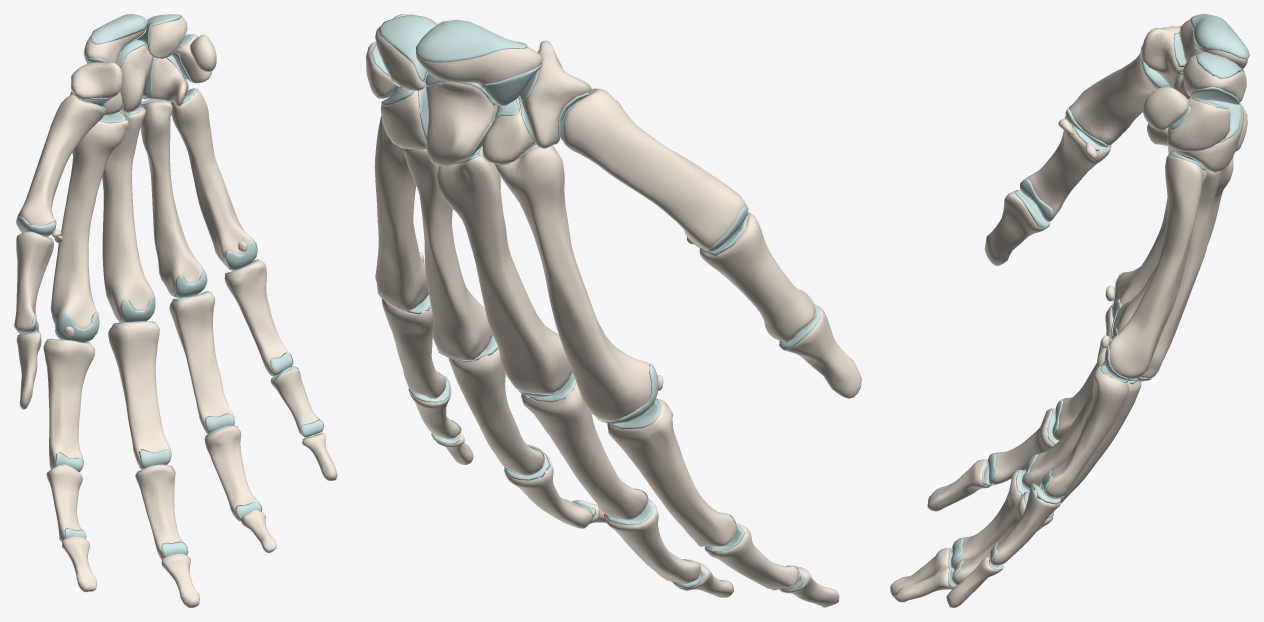
File: hand-and-wrist-bones-and-cartilages.glb
3 views of the same model, side by side, from view 1: azimuth 30°, elevation 25°; view 2: azimuth 150°, elevation 25°; view 3: azimuth 270°, elevation 25° (orthographic). The views are drawn at different scales.
Parts seen in each view (by area): view 1: 2nd metacarpal bone.r, 3rd metacarpal bone.r, 4th metacarpal bone.r, 5th metacarpal bone.r, Proximal phalanx of 3rd finger.r, Proximal phalanx of 2d finger.r, 1st metacarpal bone.r, Proximal phalanx of 4th finger.r, Art carts of metacarpal bones, Proximal phalanx of 5th finger.r, Proximal phalanx of 1st finger.r, Middle phalanx of 3rd finger.r (+19 smaller); view 2: 2nd metacarpal bone.r, 3rd metacarpal bone.r, 1st metacarpal bone.r, 4th metacarpal bone.r, 5th metacarpal bone.r, Proximal phalanx of 2d finger.r, Proximal phalanx of 3rd finger.r, Proximal phalanx of 1st finger.r, Proximal phalanx of 4th finger.r, Capitate.r, Art cart of scaphoid bone, Trapezium.r (+19 smaller); view 3: 5th metacarpal bone.r, 1st metacarpal bone.r, Proximal phalanx of 5th finger.r, 4th metacarpal bone.r, Proximal phalanx of 1st finger.r, Triquetrum.r, Distal phalanx of 1st finger.r, Proximal phalanx of 3rd finger.r, Middle phalanx of 5th finger.r, Art cart of scaphoid bone, Middle phalanx of 3rd finger.r, Trapezium.r (+21 smaller).
Part boxes in pixels (x1,y1,x2,y2): 2nd metacarpal bone.r: (50,115,128,328); 3rd metacarpal bone.r: (102,108,154,322); 4th metacarpal bone.r: (139,102,205,295); 5th metacarpal bone.r: (171,90,254,268); Proximal phalanx of 3rd finger.r: (108,322,171,467); Proximal phalanx of 2d finger.r: (43,339,94,471); 1st metacarpal bone.r: (17,94,105,225); Proximal phalanx of 4th finger.r: (169,293,234,432); Art carts of metacarpal bones: (16,88,257,342); Proximal phalanx of 5th finger.r: (224,260,289,375); Proximal phalanx of 1st finger.r: (14,232,53,330); Middle phalanx of 3rd finger.r: (135,465,184,559); 2nd metacarpal bone.r: (494,145,651,421); 3rd metacarpal bone.r: (437,146,571,393); 1st metacarpal bone.r: (562,88,746,250); 4th metacarpal bone.r: (403,148,492,360); 5th metacarpal bone.r: (374,115,428,311); Proximal phalanx of 2d finger.r: (607,398,735,546); Proximal phalanx of 3rd finger.r: (521,382,647,519); Proximal phalanx of 1st finger.r: (699,212,814,342); Proximal phalanx of 4th finger.r: (448,348,544,475); Capitate.r: (425,82,498,165); Art cart of scaphoid bone: (415,19,543,106); Trapezium.r: (519,40,591,148); 5th metacarpal bone.r: (1108,154,1206,378); 1st metacarpal bone.r: (1069,46,1157,145); Proximal phalanx of 5th finger.r: (1045,365,1128,497); 4th metacarpal bone.r: (1140,168,1223,378); Proximal phalanx of 1st finger.r: (1026,116,1111,221); Triquetrum.r: (1167,98,1230,151); Distal phalanx of 1st finger.r: (984,190,1043,265); Proximal phalanx of 3rd finger.r: (1022,335,1111,489); Middle phalanx of 5th finger.r: (992,486,1060,565); Art cart of scaphoid bone: (1179,14,1249,64); Middle phalanx of 3rd finger.r: (952,470,1021,568); Trapezium.r: (1140,26,1183,88).
Size of the model in its own units: 0.1081 by 0.1641 by 0.088.
